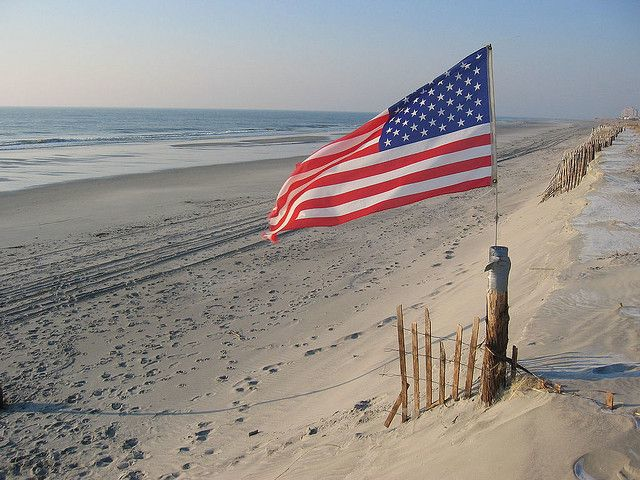America flag: (262, 44, 493, 245)
